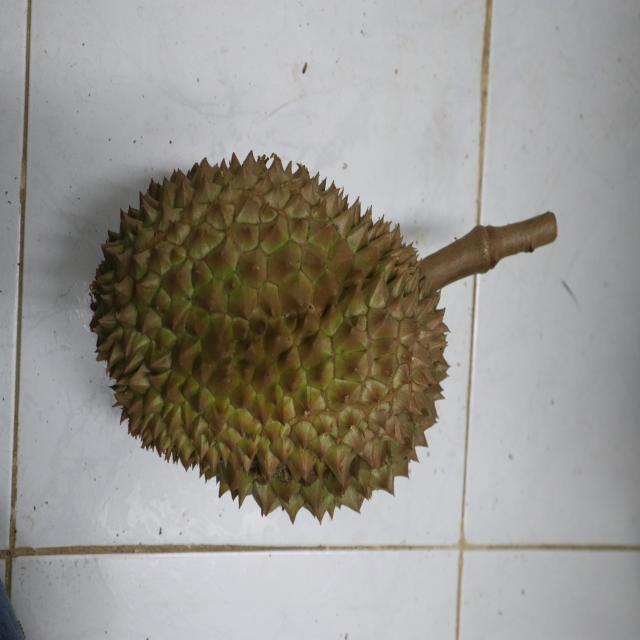mature: (90, 148, 451, 527)
